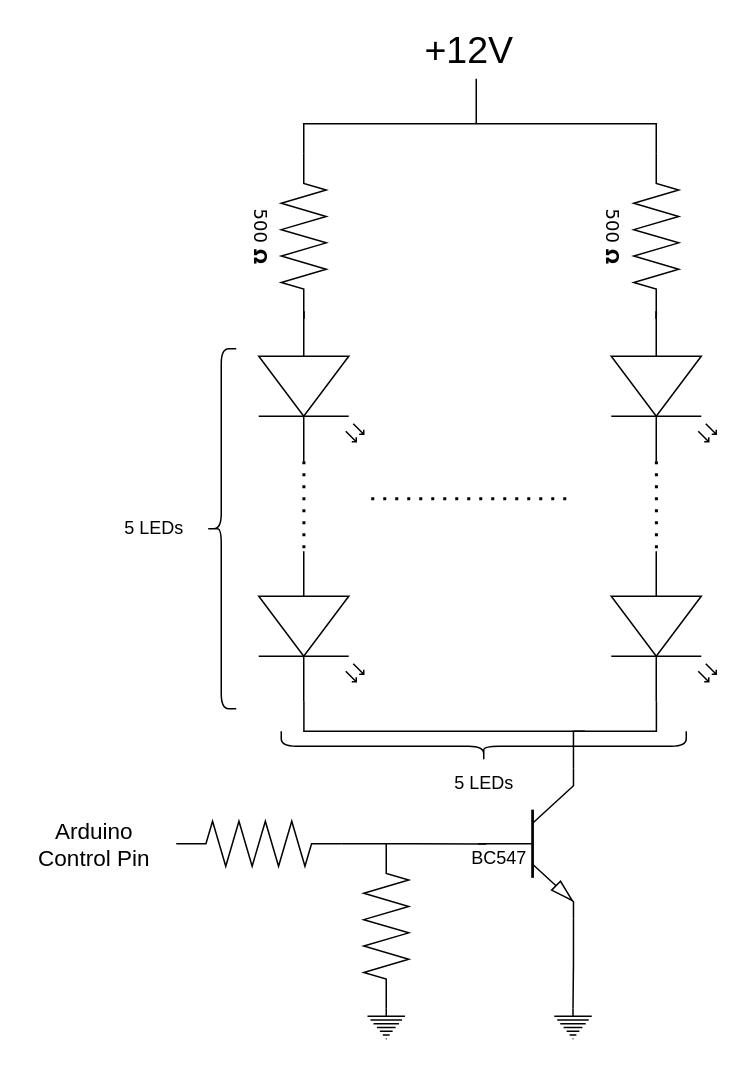
Some shapes in this 743 by 1065 pixel diagram are drawn without their labels. The centre of each missing label's shape, as x and y in pixels:
"10K Ω" belongs at [385,925].
"4.7K Ω" belongs at [258,843].
